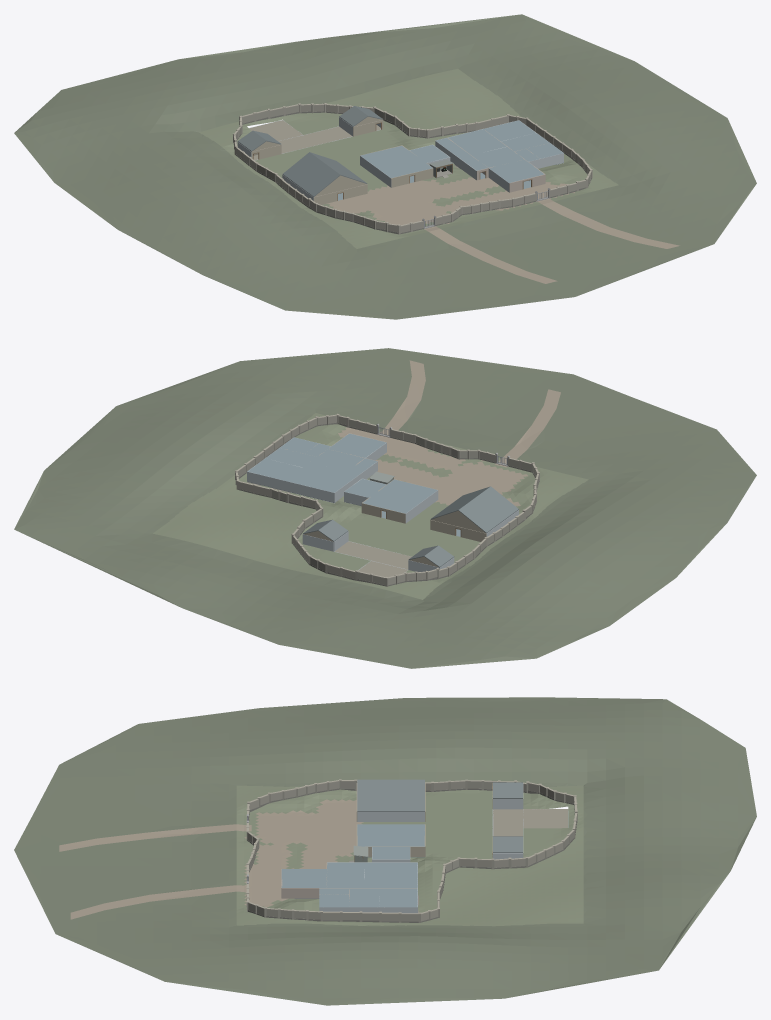
The model's file is furnished-grounds.glb.
3 renders of one model, top to bottom at view 1: azimuth 30°, elevation 25°; view 2: azimuth 150°, elevation 25°; view 3: azimuth 270°, elevation 25°, orthographic. The views are drawn at different scales.
Visible parts, largest first — view 1: Joined cemetery exterior landform, WLD-07-MORTUARY saved ground, Cemetery enclosure bonded piers, WLD-07-MORTUARY chapel west slope, Ceiling cap cottage, WLD-07-MORTUARY ossuary full deck region0, Ceiling cap mort-viewing, Ceiling cap mort-bay, Ceiling cap mort-reception, Ceiling cap mort-prep, WLD-07-MORTUARY archive full cover region0; view 2: Joined cemetery exterior landform, WLD-07-MORTUARY saved ground, Cemetery enclosure bonded piers, WLD-07-MORTUARY chapel west slope, Ceiling cap cottage, WLD-07-MORTUARY ossuary full deck region0, Ceiling cap mort-viewing, Ceiling cap mort-bay, Ceiling cap mort-prep, Ceiling cap mort-reception, Ceiling cap mort-cold, Ceiling cap mort-hall (+1 smaller); view 3: Joined cemetery exterior landform, WLD-07-MORTUARY saved ground, WLD-07-MORTUARY chapel east slope, Cemetery enclosure bonded piers, Ceiling cap cottage, Ceiling cap mort-viewing, WLD-07-MORTUARY archive full cover region0, Ceiling cap mort-bay, WLD-07-MORTUARY ossuary full deck region0, Ceiling cap mort-prep, Wall chapel E, Ceiling cap mort-reception (+3 smaller).
Part boxes in pixels (x1,y1,x2,y2): Joined cemetery exterior landform: (14,14,756,319); WLD-07-MORTUARY saved ground: (199,69,618,248); Cemetery enclosure bonded piers: (233,103,592,234); WLD-07-MORTUARY chapel west slope: (282,152,340,197); Ceiling cap cottage: (361,145,432,177); WLD-07-MORTUARY ossuary full deck region0: (278,126,352,153); Ceiling cap mort-viewing: (448,129,506,155); Ceiling cap mort-bay: (489,159,544,182); Ceiling cap mort-reception: (472,147,523,167); Ceiling cap mort-prep: (483,120,535,141); WLD-07-MORTUARY archive full cover region0: (249,120,302,141); Joined cemetery exterior landform: (14,348,756,668); WLD-07-MORTUARY saved ground: (153,413,588,599); Cemetery enclosure bonded piers: (234,413,539,586); WLD-07-MORTUARY chapel west slope: (458,486,518,533); Ceiling cap cottage: (362,479,437,513); WLD-07-MORTUARY ossuary full deck region0: (335,541,411,569); Ceiling cap mort-viewing: (285,462,346,489); Ceiling cap mort-bay: (328,433,386,457); Ceiling cap mort-prep: (247,458,301,480); Ceiling cap mort-reception: (310,449,364,471); Ceiling cap mort-cold: (265,448,316,467); Ceiling cap mort-hall: (322,458,376,492); Joined cemetery exterior landform: (14,697,756,1005); WLD-07-MORTUARY saved ground: (236,785,583,926); WLD-07-MORTUARY chapel east slope: (357,779,424,811); Cemetery enclosure bonded piers: (246,779,577,922); Ceiling cap cottage: (357,824,424,846); Ceiling cap mort-viewing: (364,869,417,887); WLD-07-MORTUARY archive full cover region0: (523,809,568,828); Ceiling cap mort-bay: (281,869,326,887); WLD-07-MORTUARY ossuary full deck region0: (493,809,522,836); Ceiling cap mort-prep: (380,888,417,907); Wall chapel E: (357,811,424,821); Ceiling cap mort-reception: (327,869,364,887).
Bounding box in the file's own units: 192 × 11.28 × 197.
Materials: 115 (85 with a texture image).
